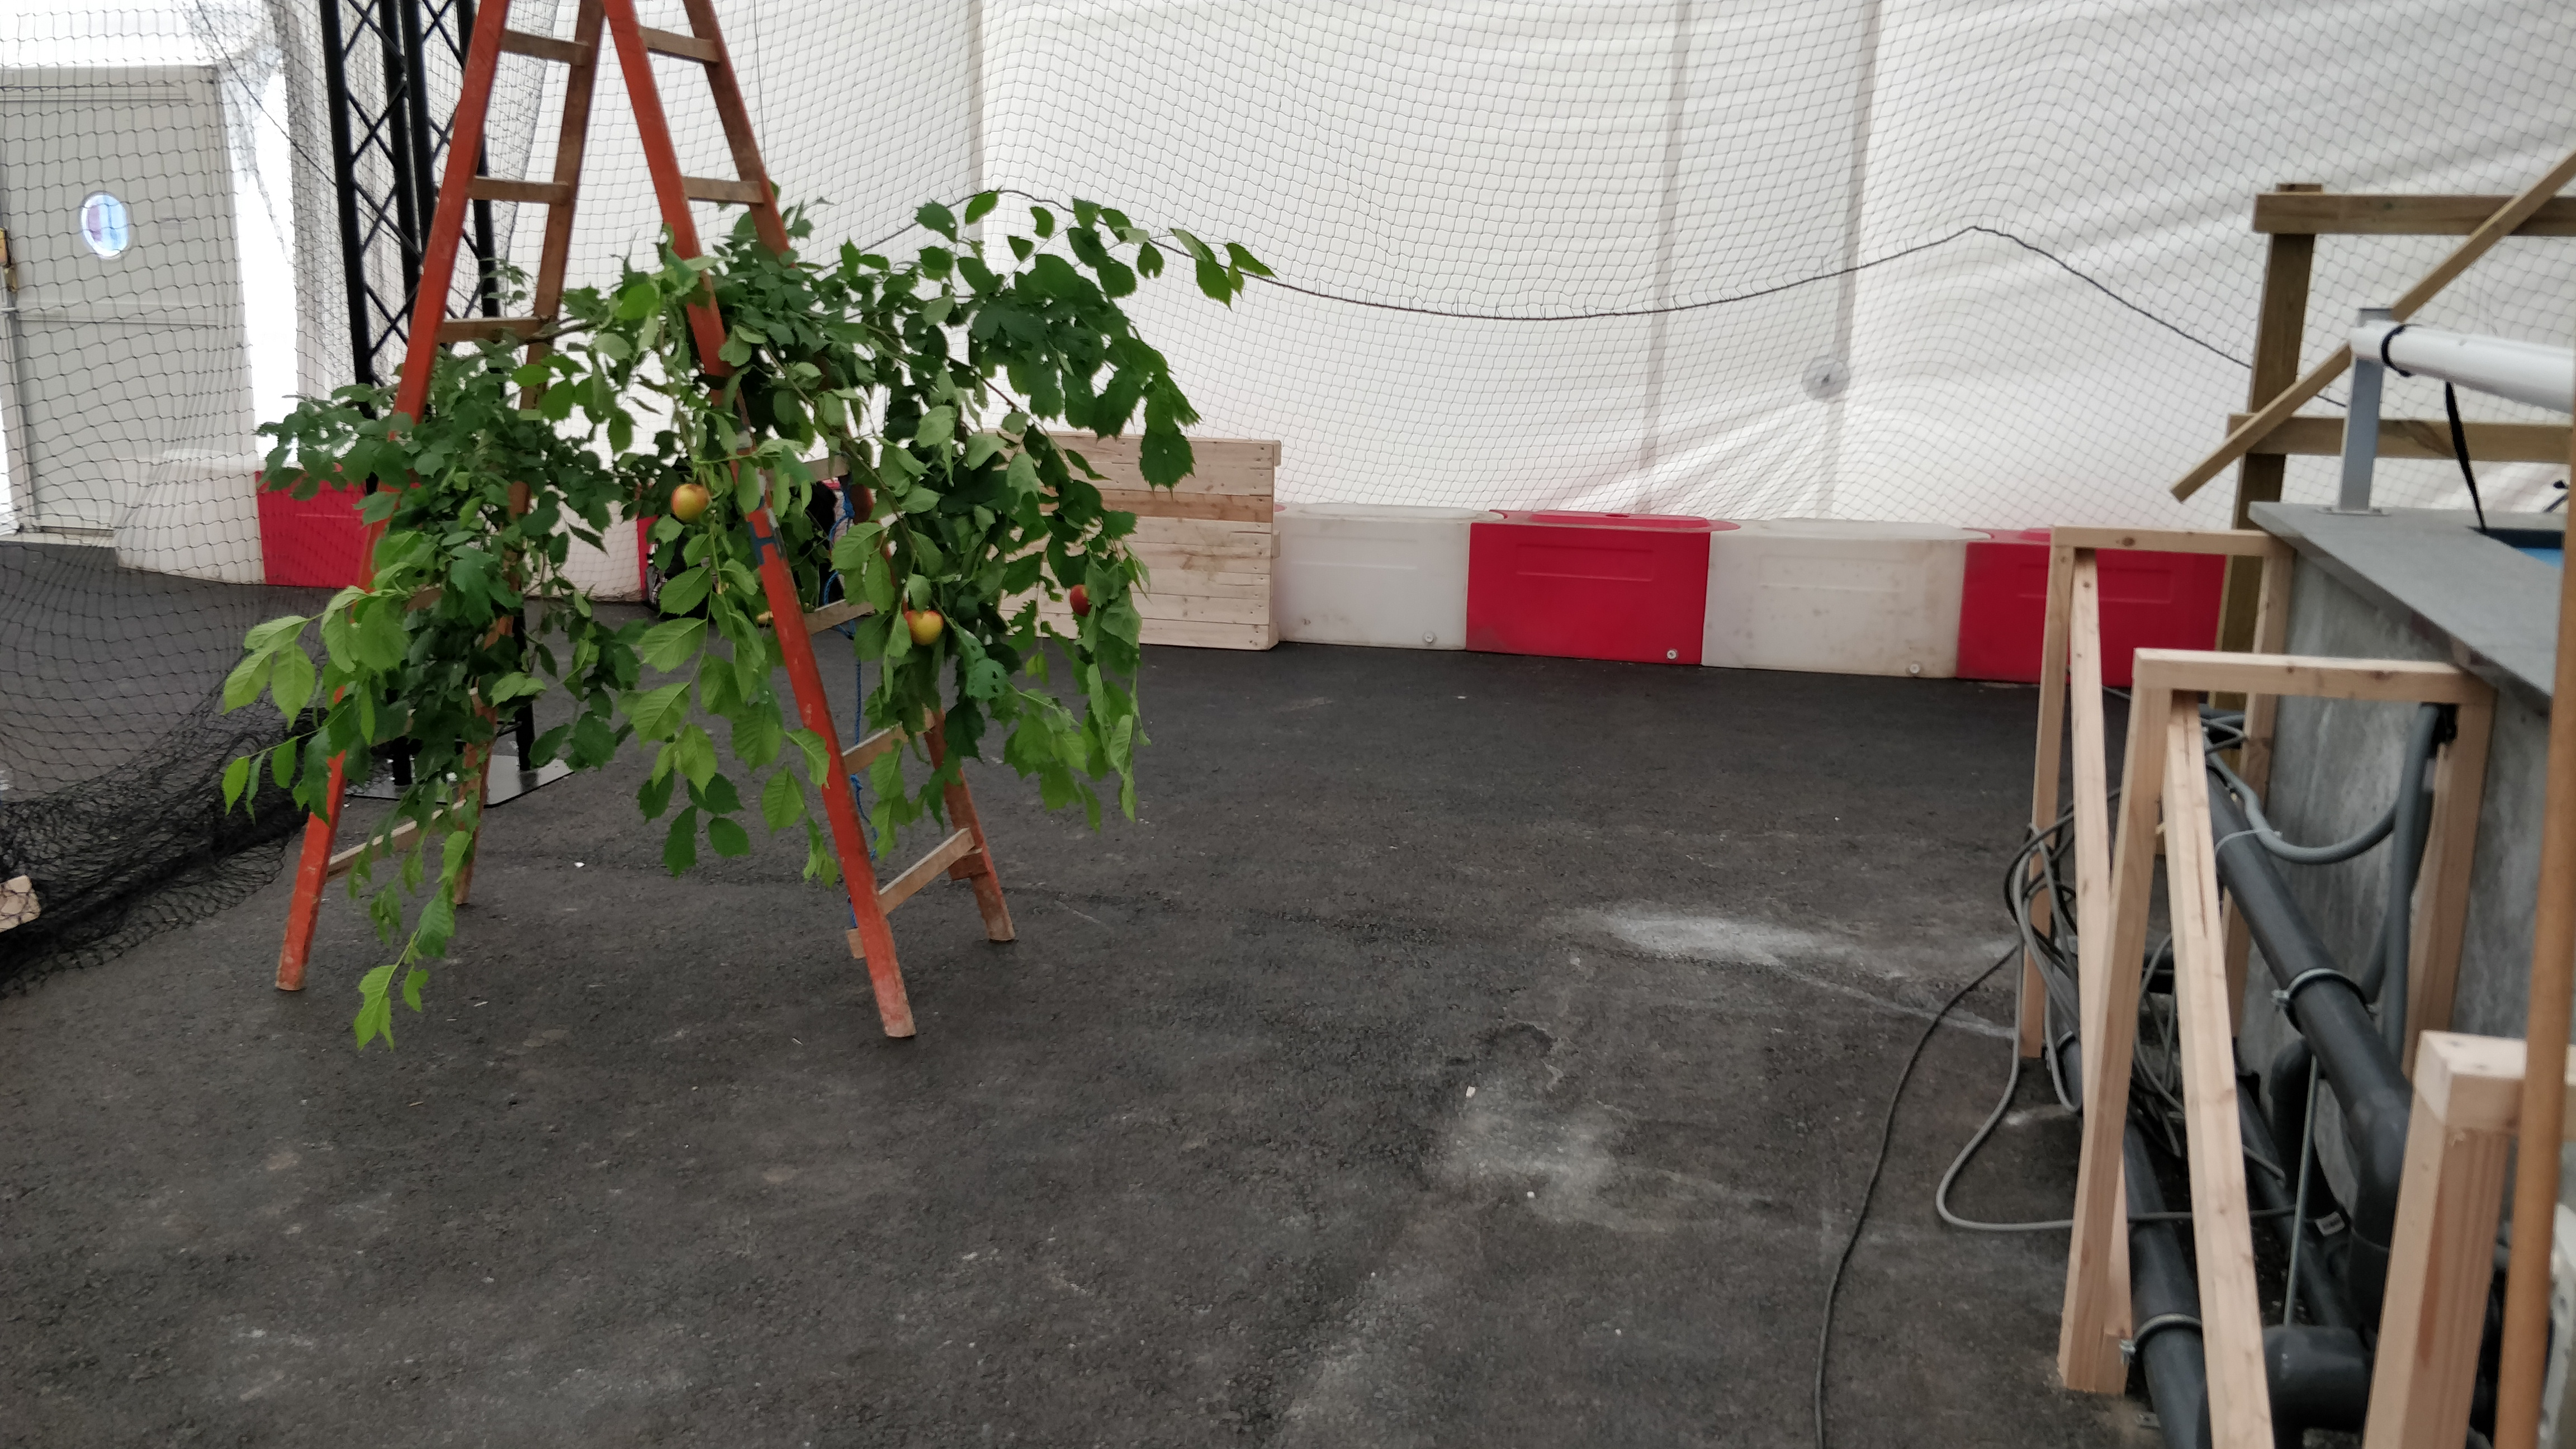apple: (671, 485, 711, 522), (902, 610, 943, 646), (1070, 584, 1095, 617)
